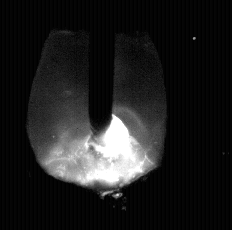arame: (89, 0, 114, 135)
poca: (28, 0, 168, 230)
